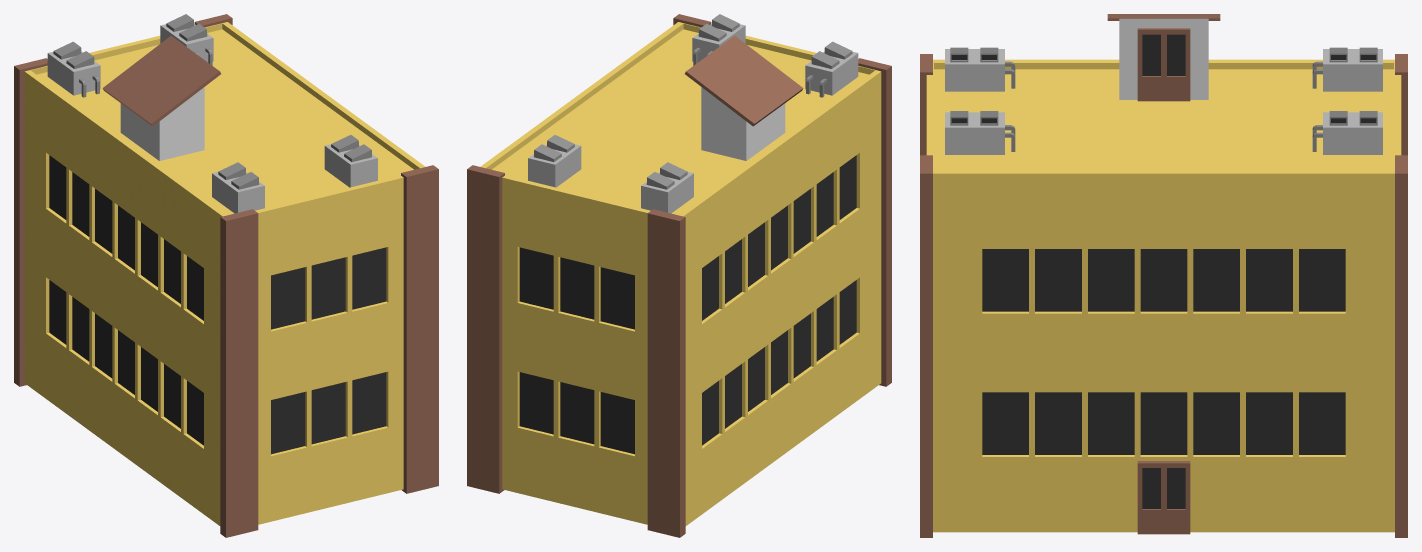
The model's file is flat_02.fbx.
3 views of the same model, side by side, from view 1: azimuth 30°, elevation 25°; view 2: azimuth 150°, elevation 25°; view 3: azimuth 270°, elevation 25° (orthographic). The views are drawn at different scales.
Parts seen in each view (by area): view 1: flat_02; view 2: flat_02; view 3: flat_02.
Boxes of the visible parts, left/top/right/bottom form: flat_02: left=14, top=14, right=438, bottom=537; flat_02: left=467, top=14, right=891, bottom=537; flat_02: left=920, top=14, right=1407, bottom=537.
Size of the model in its own units: 9.43 by 16.45 by 16.27.
